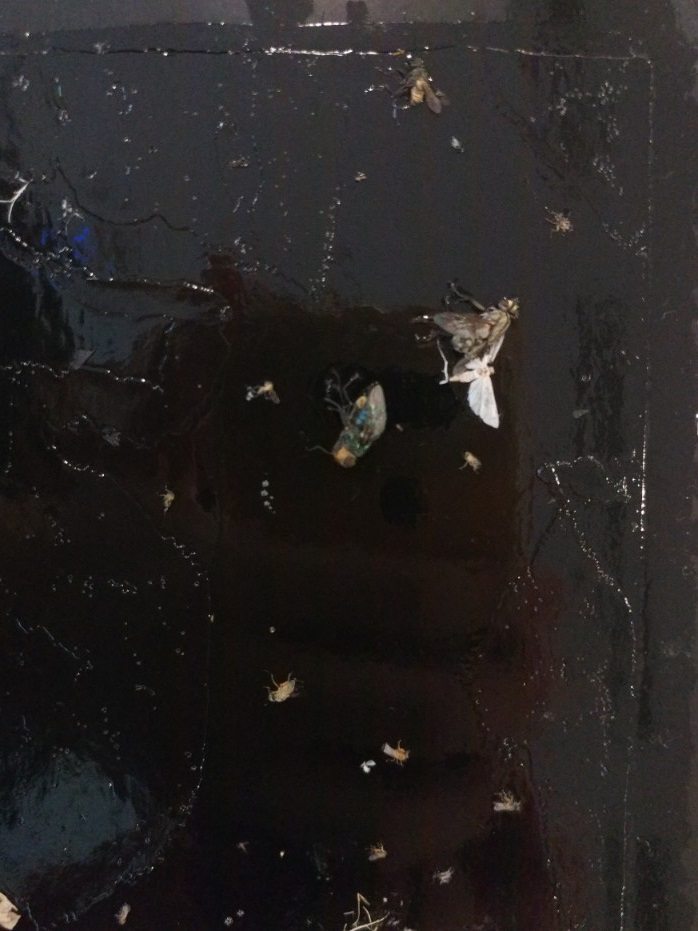house fly: (401, 271, 528, 433), (298, 362, 398, 476)
